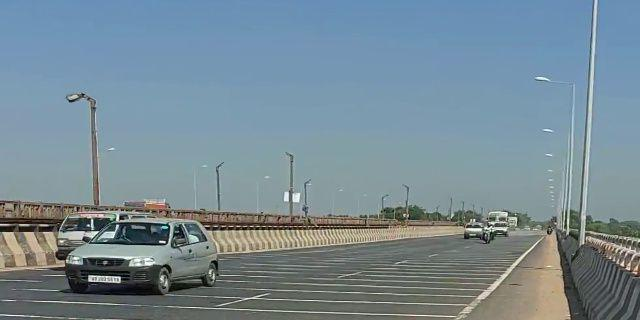Car: (64, 215, 223, 293)
Van: (53, 211, 115, 260)
